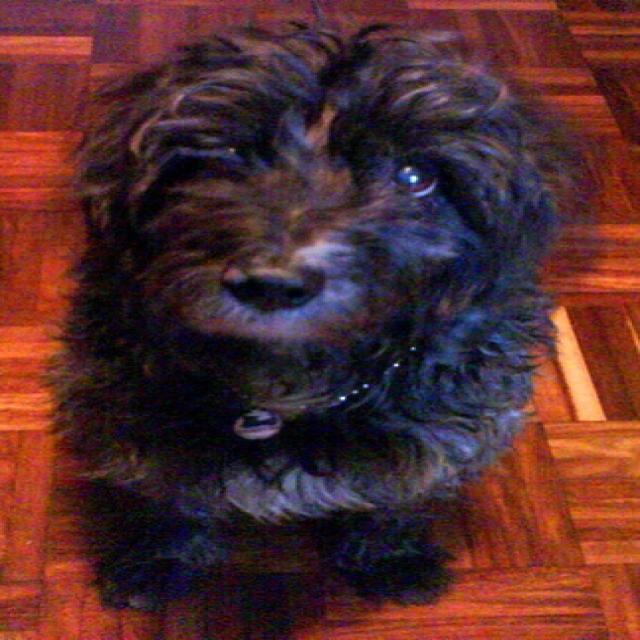dog: (45, 12, 562, 616)
